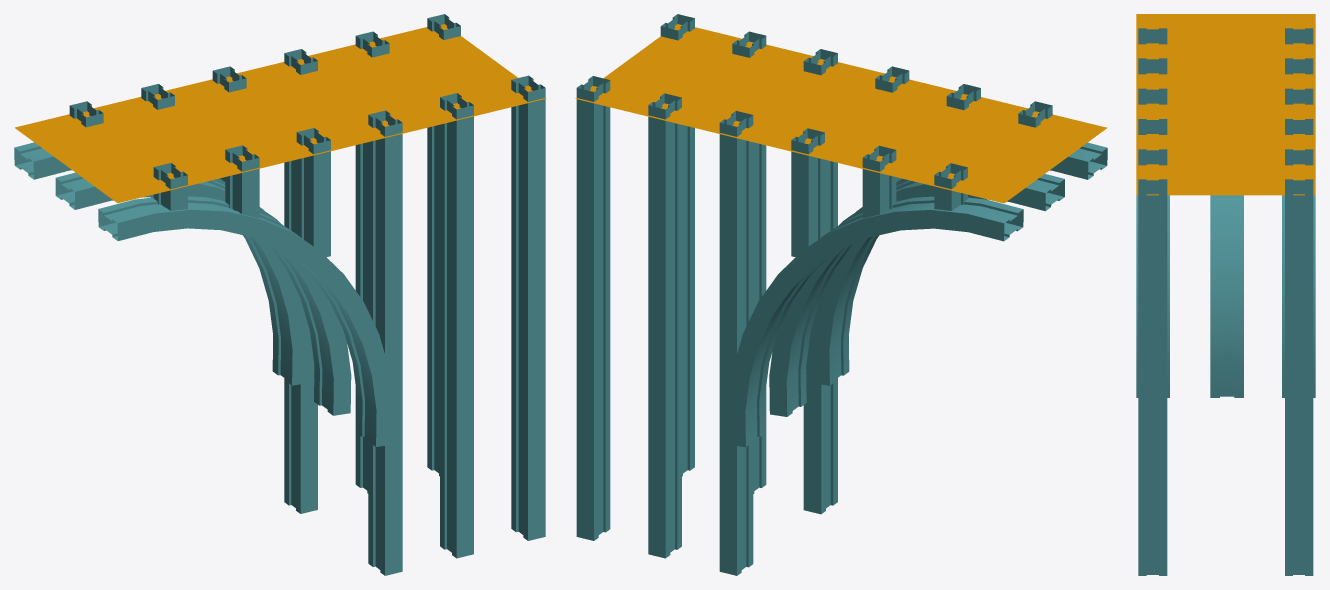
File: Arche.fbx
The picture shows the model from 3 angles, left to right: view 1: azimuth 30°, elevation 25°; view 2: azimuth 150°, elevation 25°; view 3: azimuth 270°, elevation 25°; orthographic projection. The views are drawn at different scales.
Visible parts, largest first — view 1: pCube49; view 2: pCube49; view 3: pCube49.
Part boxes in pixels (x1,y1,x2,y2): pCube49: [14, 14, 546, 575]; pCube49: [575, 14, 1107, 575]; pCube49: [1136, 14, 1315, 575].
Bounding box in the file's own units: 30.01 × 30 × 12.52.
